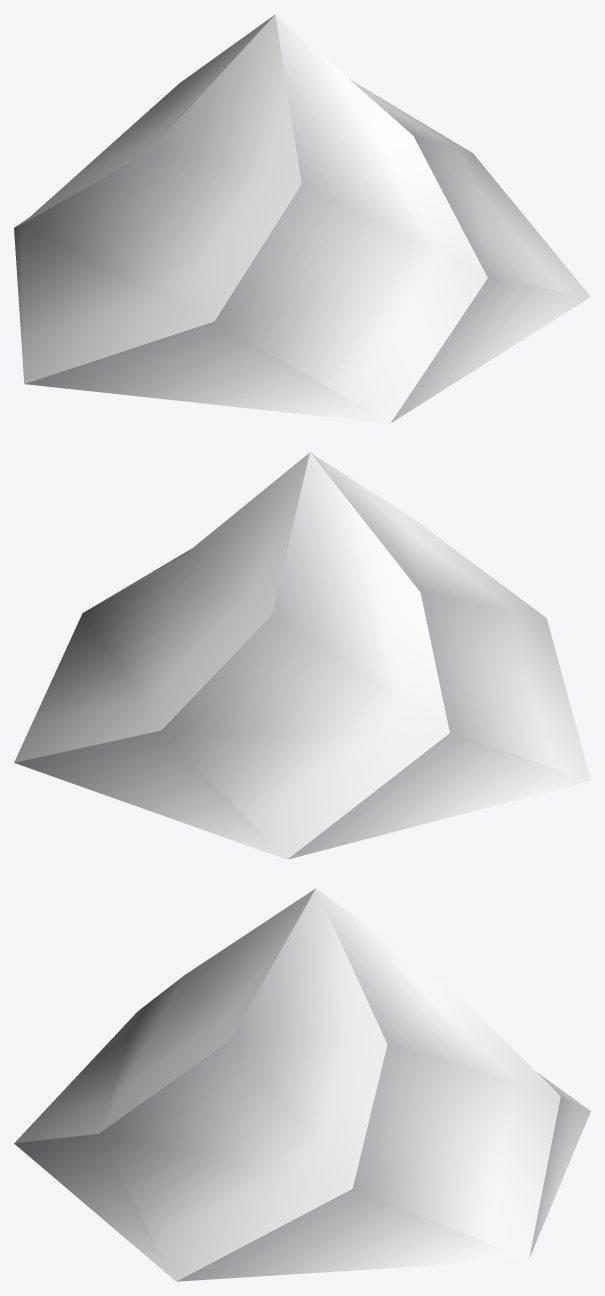
Rendered from m_LemonMeringueTart01_Deco.fbx.
3 views of the same model, one above another, from view 1: azimuth 30°, elevation 25°; view 2: azimuth 150°, elevation 25°; view 3: azimuth 270°, elevation 25° (orthographic). The views are drawn at different scales.
Visible parts, largest first — view 1: m_LemonMeringueTart01_Deco; view 2: m_LemonMeringueTart01_Deco; view 3: m_LemonMeringueTart01_Deco.
Part boxes in pixels (x1=…): m_LemonMeringueTart01_Deco: x1=14, y1=14, x2=590, y2=423; m_LemonMeringueTart01_Deco: x1=14, y1=452, x2=590, y2=859; m_LemonMeringueTart01_Deco: x1=14, y1=888, x2=590, y2=1281.
Bounding box in the file's own units: 5.8 × 3.11 × 5.84.
